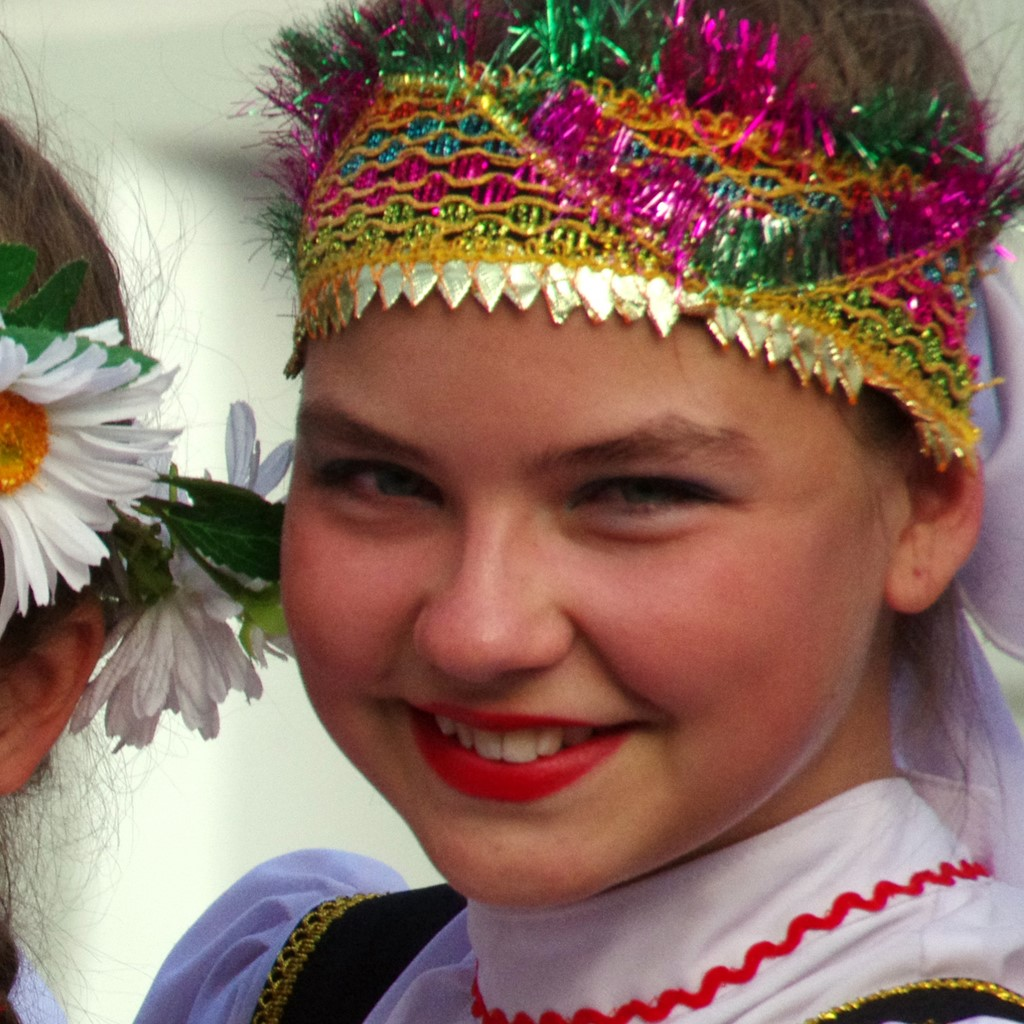sin_mascara: (276, 174, 917, 876)
